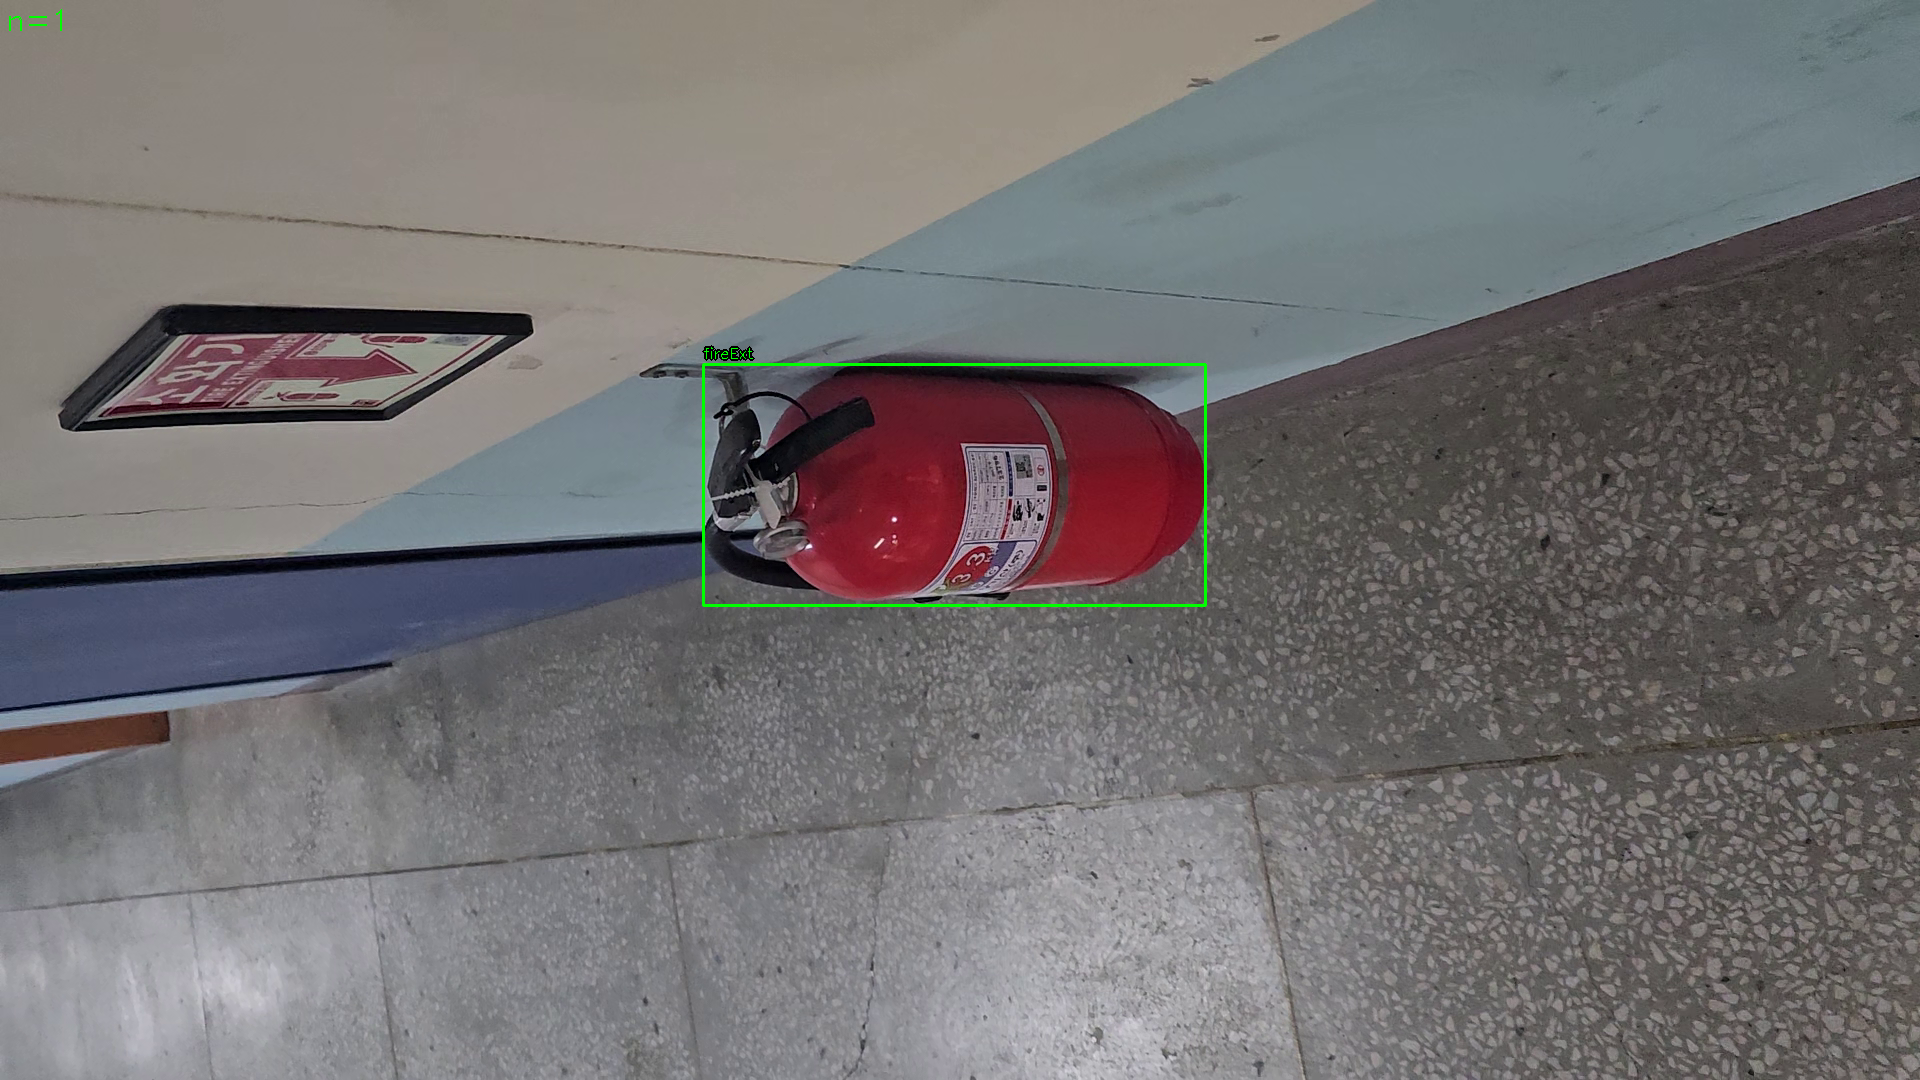lane: (703, 364, 1207, 607)
